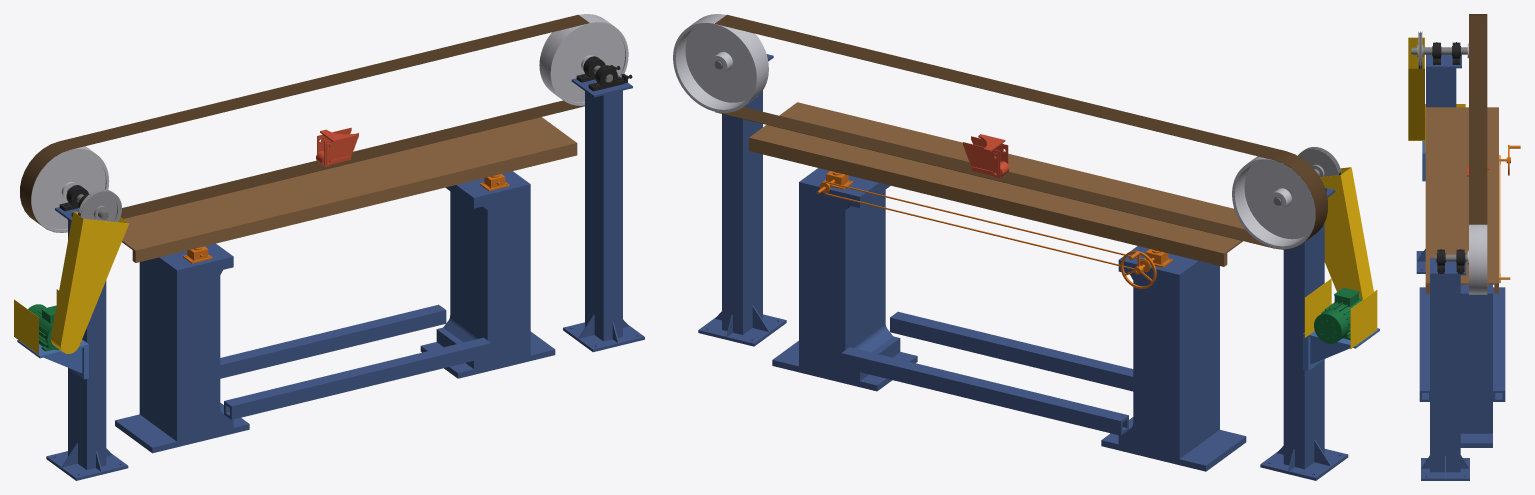
File: lijadora.glb
The picture shows the model from 3 angles, left to right: view 1: azimuth 30°, elevation 25°; view 2: azimuth 150°, elevation 25°; view 3: azimuth 270°, elevation 25°; orthographic projection. The views are drawn at different scales.
Parts seen in each view (by area): view 1: pieza 1 base-1, pieza6x1-2 mesa, pieza 1 base-3, banda lija 150, columna tra, guardamotor, columna del, pieza 2 travesaño trav2, pieza5-1, pieza 2 travesaño trav, rueda tra, rueda del (+5 smaller); view 2: pieza 1 base-1, pieza 1 base-3, pieza6x1-2 mesa, banda lija 150, columna tra, columna del, rueda tra, pieza 2 travesaño trav, guardamotor, pieza5-2, rueda del, pieza 2 travesaño trav2 (+6 smaller); view 3: pieza6x1-2 mesa, columna tra, pieza 1 base-3, banda lija 150, columna del, guardamotor, pieza 2 travesaño trav, rueda tra, pieza 2 travesaño trav2, eje del (pieza 10), cadena mesa, polea eje Ø315 (+4 smaller).
Part boxes in pixels (x1,y1,x2,y2): pieza 1 base-1: (115, 243, 249, 453); pieza6x1-2 mesa: (122, 117, 577, 251); pieza 1 base-3: (420, 171, 555, 378); banda lija 150: (20, 14, 589, 232); columna tra: (563, 75, 644, 352); guardamotor: (14, 211, 129, 354); columna del: (46, 207, 128, 480); pieza 2 travesaño trav2: (224, 337, 491, 419); pieza5-1: (132, 144, 577, 262); pieza 2 travesaño trav: (220, 304, 446, 378); rueda tra: (539, 14, 628, 105); rueda del: (31, 146, 109, 232); pieza 1 base-1: (1101, 246, 1246, 471); pieza 1 base-3: (772, 168, 917, 391); pieza6x1-2 mesa: (749, 102, 1244, 254); banda lija 150: (715, 14, 1327, 249); columna tra: (698, 54, 786, 346); columna del: (1260, 187, 1348, 480); rueda tra: (673, 14, 768, 112); pieza 2 travesaño trav: (841, 347, 1128, 435); guardamotor: (1304, 167, 1377, 349); pieza5-2: (749, 139, 1227, 266); rueda del: (1232, 156, 1315, 249); pieza 2 travesaño trav2: (890, 311, 1133, 391); pieza6x1-2 mesa: (1425, 107, 1498, 283); columna tra: (1421, 258, 1469, 480); pieza 1 base-3: (1460, 284, 1492, 447); banda lija 150: (1469, 14, 1487, 224); columna del: (1416, 54, 1461, 273); guardamotor: (1408, 37, 1465, 151); pieza 2 travesaño trav: (1493, 287, 1505, 401); rueda tra: (1467, 224, 1487, 294); pieza 2 travesaño trav2: (1419, 287, 1429, 401); eje del (pieza 10): (1411, 47, 1467, 54); cadena mesa: (1499, 155, 1500, 283); polea eje Ø315: (1417, 31, 1423, 68).
Size of the model in its own units: 4.75 by 2.22 by 0.919.
